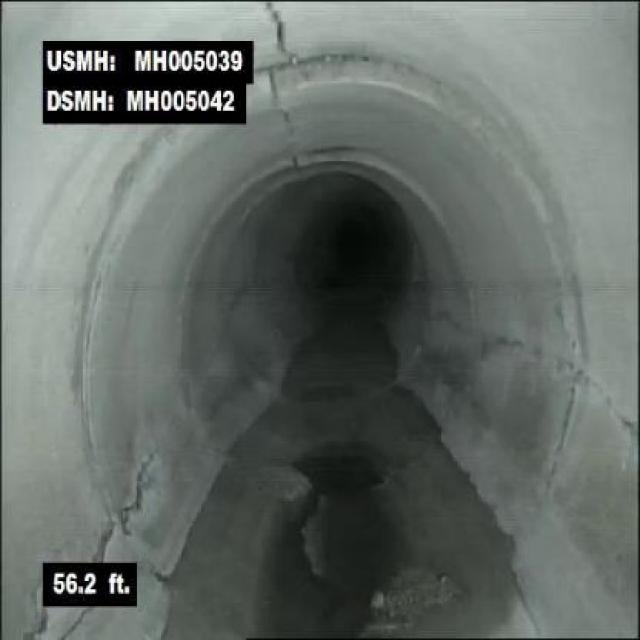Crack: (289, 496, 345, 626), (91, 459, 152, 563), (582, 363, 636, 435), (503, 331, 577, 377), (263, 2, 300, 66), (269, 94, 305, 157), (17, 608, 57, 638)
Joint offset: (314, 43, 428, 95), (440, 77, 522, 146)
